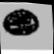correct: (0, 4, 41, 39)
